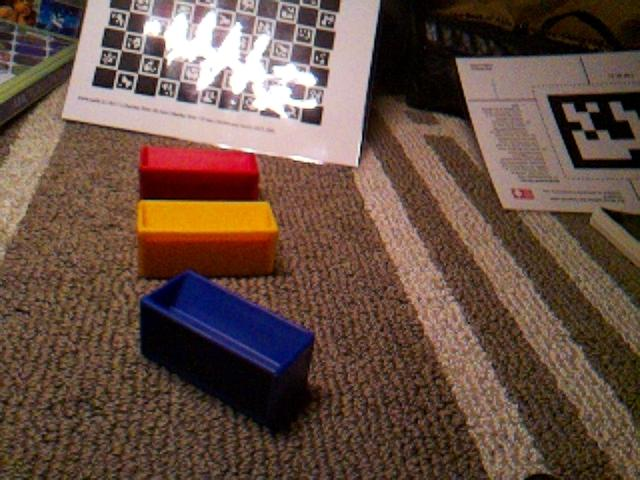blue: (138, 268, 317, 428)
red: (137, 143, 261, 201)
yellow: (136, 198, 280, 279)
